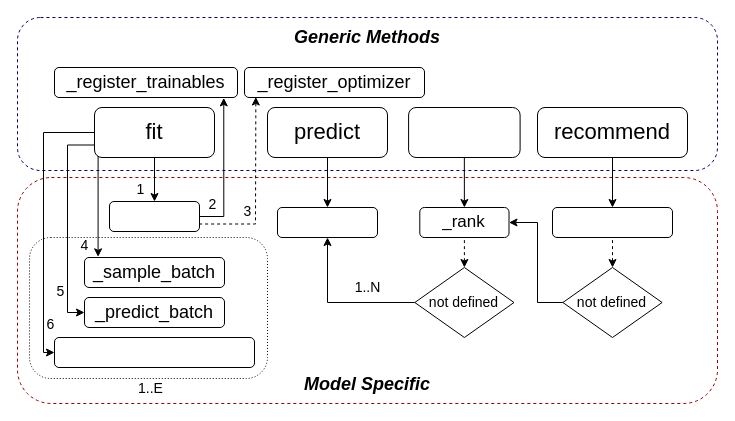
The diagram is 735 pixels wide and 421 high, and some of its shapes have lost their labels. Here are the shapes that lost their labels. From the top down, the centre of each, then its label:
At point (464, 132): "rank".
At point (154, 216): "_pre_fit".
At point (327, 222): "_predict".
At point (612, 222): "_recommend".
At point (154, 352): "_compute_batch_loss".
